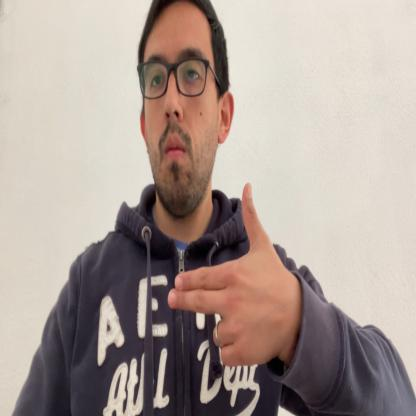H: (168, 180, 294, 369)
